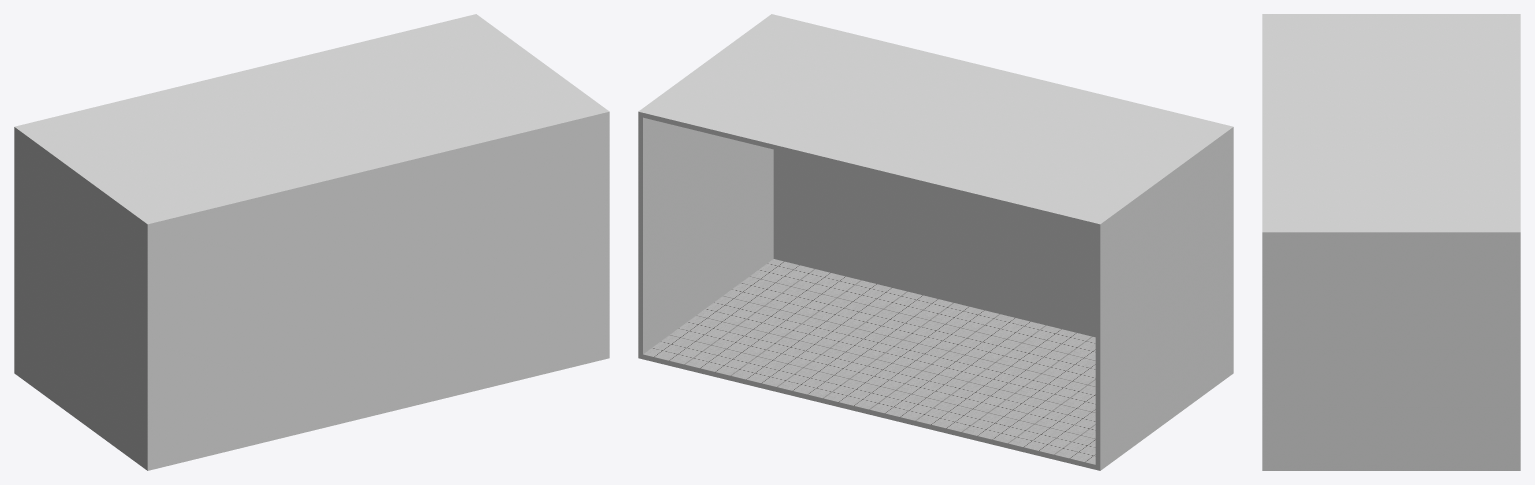
The model's file is ObverseRoom.fbx.
3 views of the same model, side by side, from view 1: azimuth 30°, elevation 25°; view 2: azimuth 150°, elevation 25°; view 3: azimuth 270°, elevation 25° (orthographic). The views are drawn at different scales.
Visible parts, largest first — view 1: node_id7; view 2: node_id7 (×2); view 3: node_id7.
Boxes of the visible parts, x1=… form: node_id7: x1=14, y1=14, x2=609, y2=470; node_id7 (×2): x1=638, y1=14, x2=1233, y2=470; node_id7: x1=1262, y1=14, x2=1520, y2=470.
Size of the model in its own units: 0.512 by 0.2611 by 0.256.
2 materials, 2 textured.
